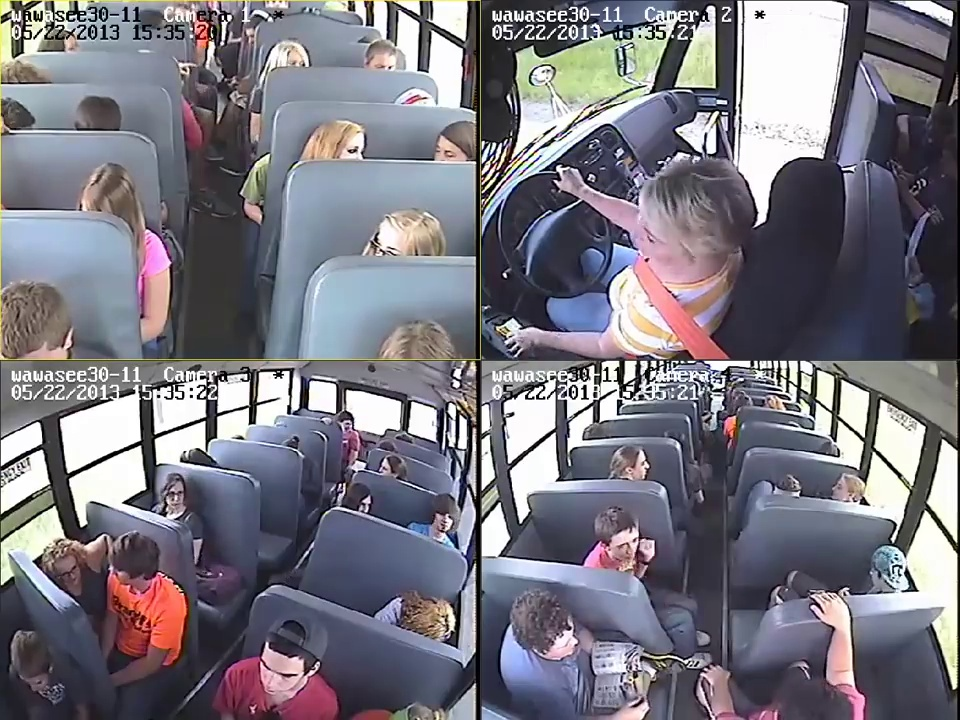face: (260, 646, 302, 696), (50, 558, 82, 590), (610, 528, 637, 565), (828, 478, 852, 502), (161, 487, 183, 509), (438, 508, 456, 532), (633, 451, 649, 476)
